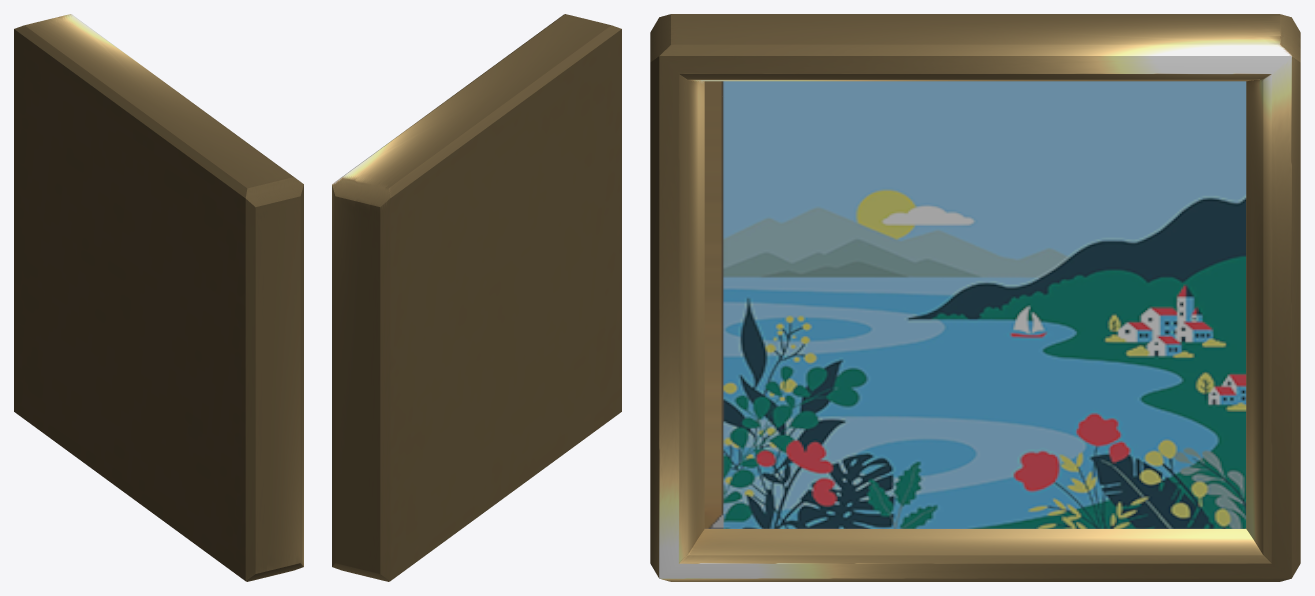
The model's file is Emoji_frame.glb.
3 views of the same model, side by side, from view 1: azimuth 30°, elevation 25°; view 2: azimuth 150°, elevation 25°; view 3: azimuth 270°, elevation 25° (orthographic). The views are drawn at different scales.
Visible parts, largest first — view 1: Emoji; view 2: Emoji; view 3: Emoji.
Part boxes in pixels (left/top/right/bottom): Emoji: left=14, top=14, right=303, bottom=581; Emoji: left=332, top=14, right=621, bottom=581; Emoji: left=650, top=14, right=1300, bottom=581.
Size of the model in its own units: 0.11 by 0.6856 by 0.7523.
Materials: 1 (1 with a texture image).
